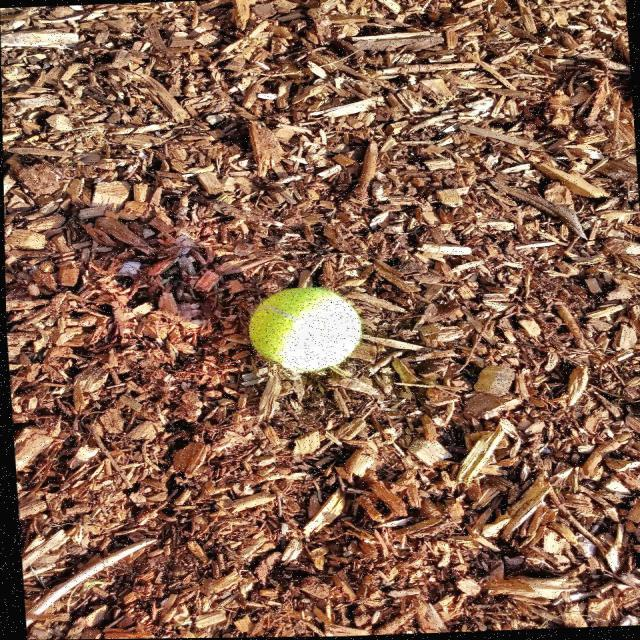tennis-ball: (246, 286, 374, 378)
